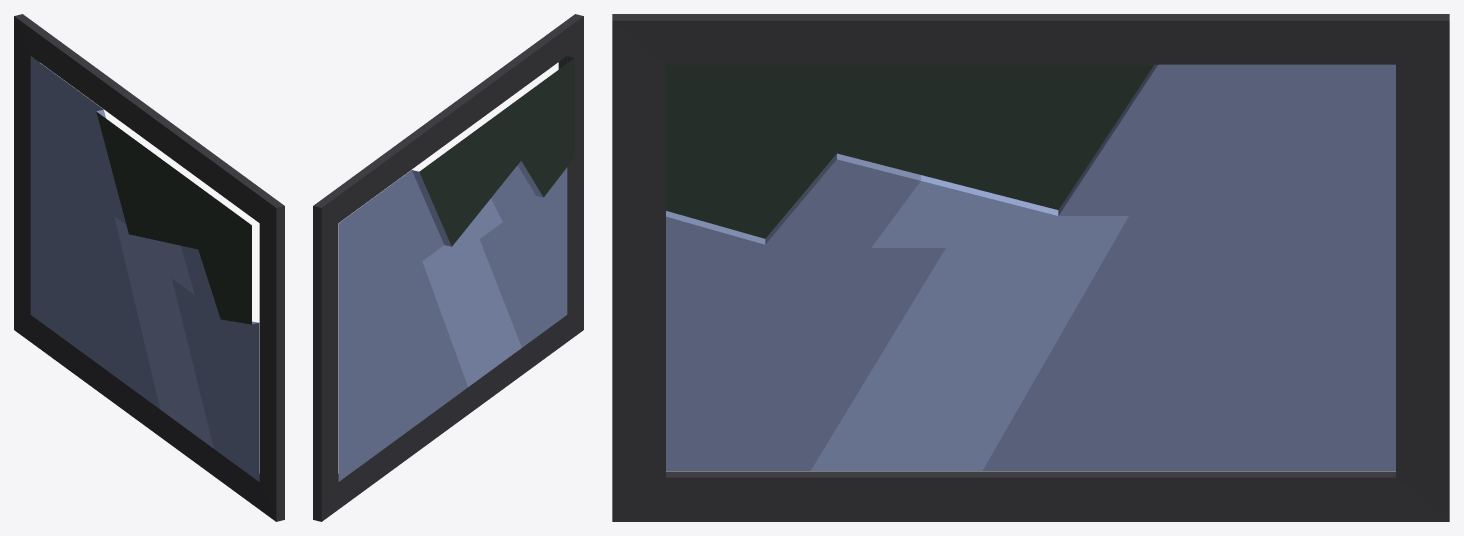
Rendered from window-broken.fbx.
3 renders of one model, left to right at view 1: azimuth 30°, elevation 25°; view 2: azimuth 150°, elevation 25°; view 3: azimuth 270°, elevation 25°, orthographic. The views are drawn at different scales.
Visible parts, largest first — view 1: window.002; view 2: window.002; view 3: window.002.
Boxes of the visible parts, bbox=[...] form: window.002: bbox=[14, 14, 284, 521]; window.002: bbox=[313, 14, 583, 521]; window.002: bbox=[612, 14, 1449, 521].
Bounding box in the file's own units: 7.56 × 139 × 210.
